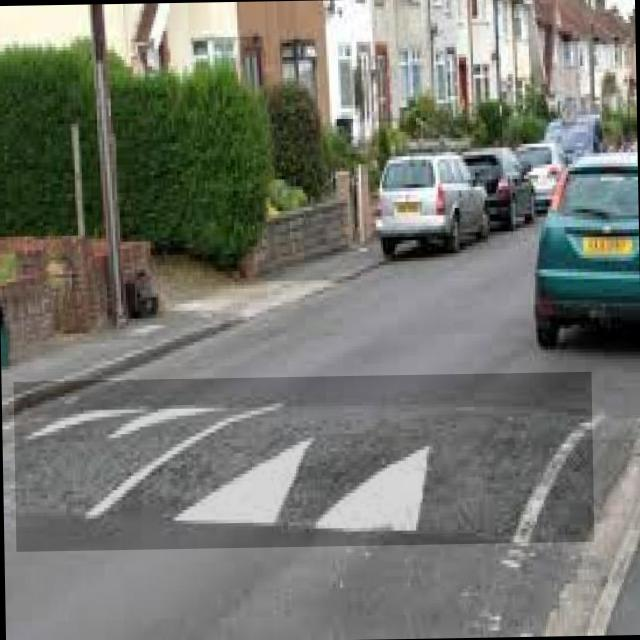bump: (13, 372, 594, 552)
